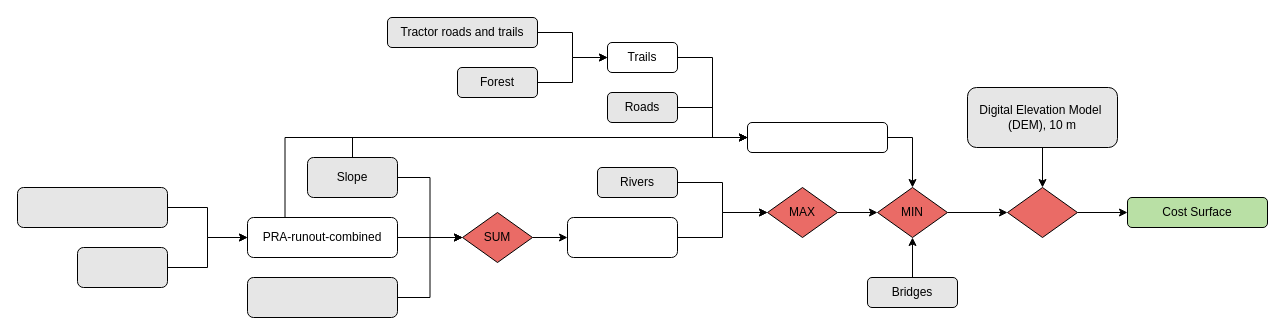
This 1285x335 diagram has some shape labels left out. The centre of each missing label's shape, as x and y in pixels:
Algorithm: the point at 1042,212
FlowPy: Travel angle: the point at 92,207
PRA-raw: the point at 122,267
Safe roads and trails: the point at 817,137
SurfaceSumCost: the point at 622,237
Windshelter/curvature: the point at 322,297
